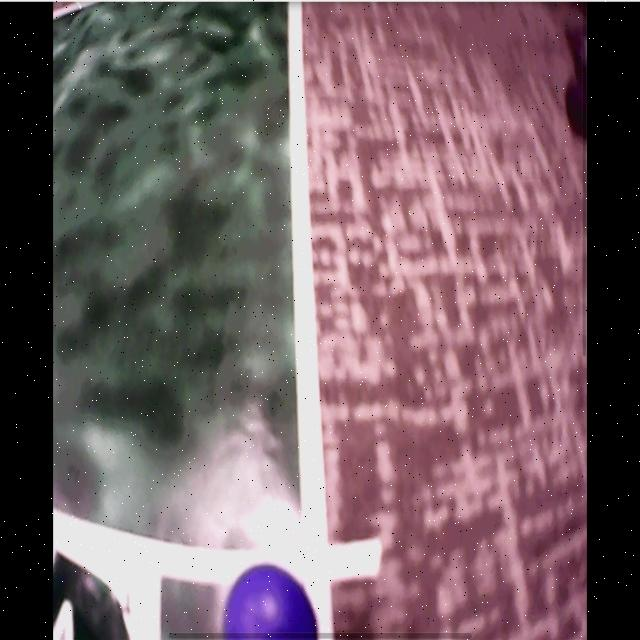ball: (222, 564, 321, 640)
